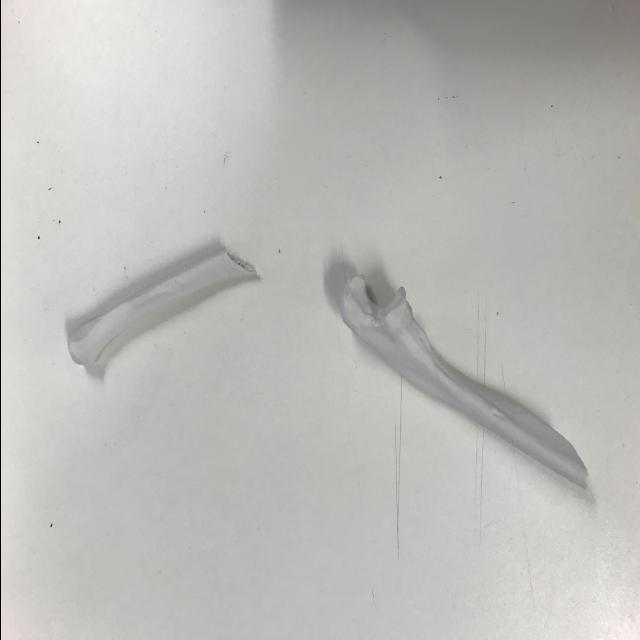bone: (329, 263, 595, 492), (60, 240, 262, 386)
